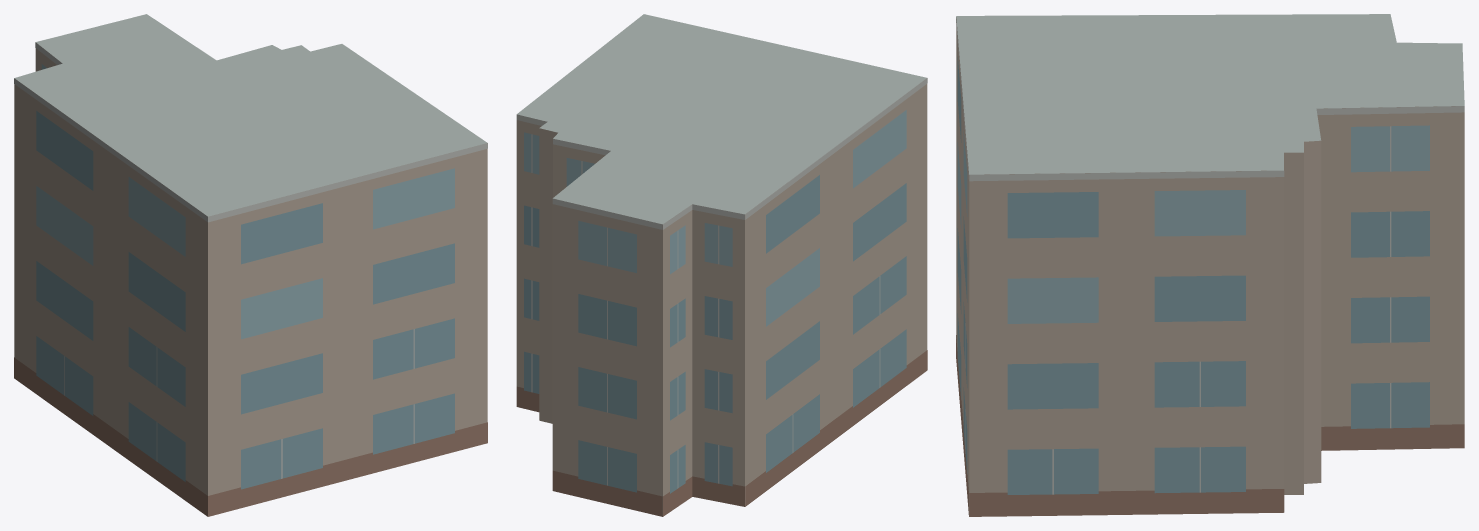
Rendered from survey-upis-32986645.glb.
The picture shows the model from 3 angles, left to right: view 1: azimuth 30°, elevation 25°; view 2: azimuth 150°, elevation 25°; view 3: azimuth 270°, elevation 25°; orthographic projection. The views are drawn at different scales.
Visible parts, largest first — view 1: survey-upis-32986645.tmp; view 2: survey-upis-32986645.tmp; view 3: survey-upis-32986645.tmp.
Part boxes in pixels (box(x1,y1,x2,y2)): survey-upis-32986645.tmp: box(14, 14, 487, 516); survey-upis-32986645.tmp: box(516, 14, 927, 516); survey-upis-32986645.tmp: box(956, 14, 1464, 516).
Size of the model in its own units: 12.84 by 12.74 by 17.17.
